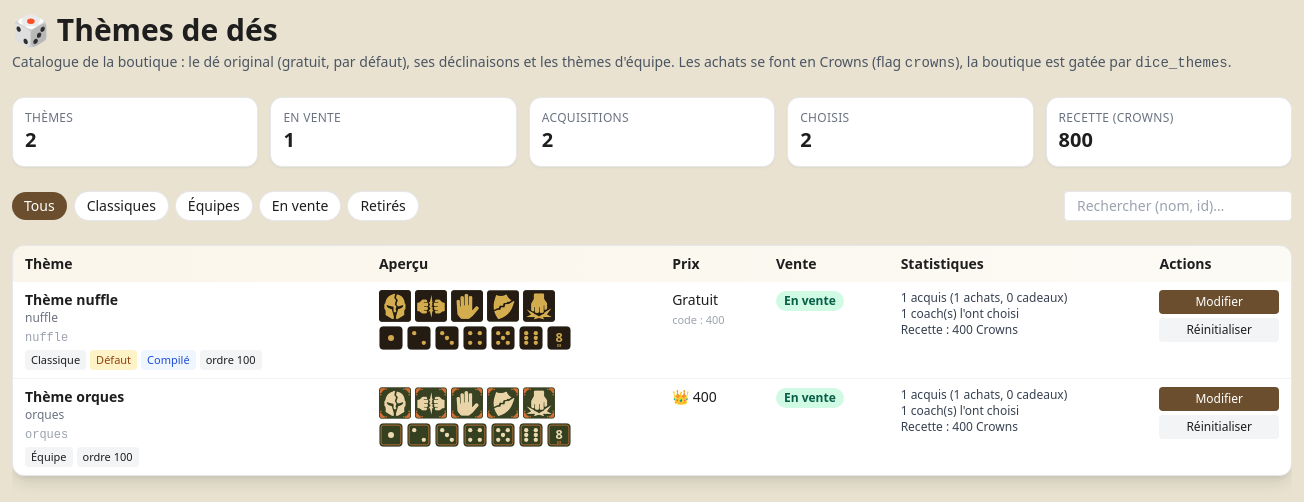
Test: AdminDiceThemesPage › retire un thème de la vente
Click the button with test id "admin-dice-toggle-orques". click: (810, 398)
box: [776, 388, 844, 408]
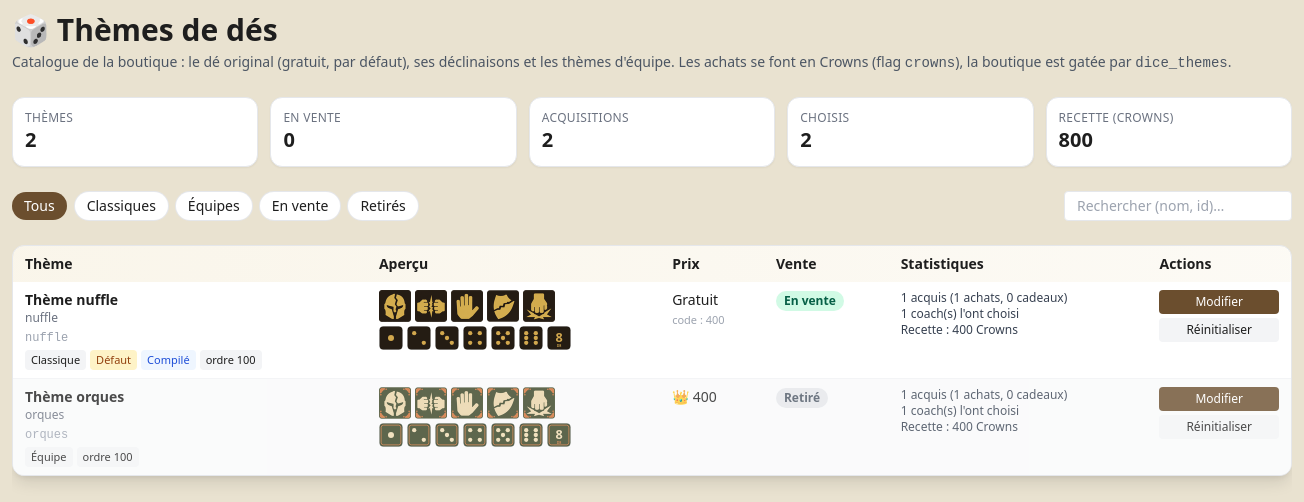
Now the button with test id "admin-dice-toggle-orques" reads "Retiré", box [776, 388, 828, 408]
